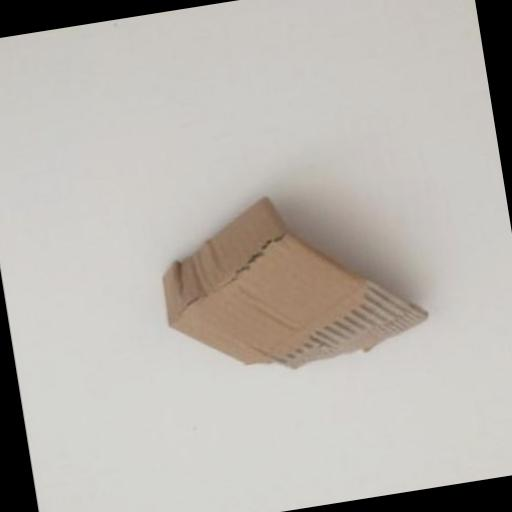cardboard: (151, 176, 434, 390)
